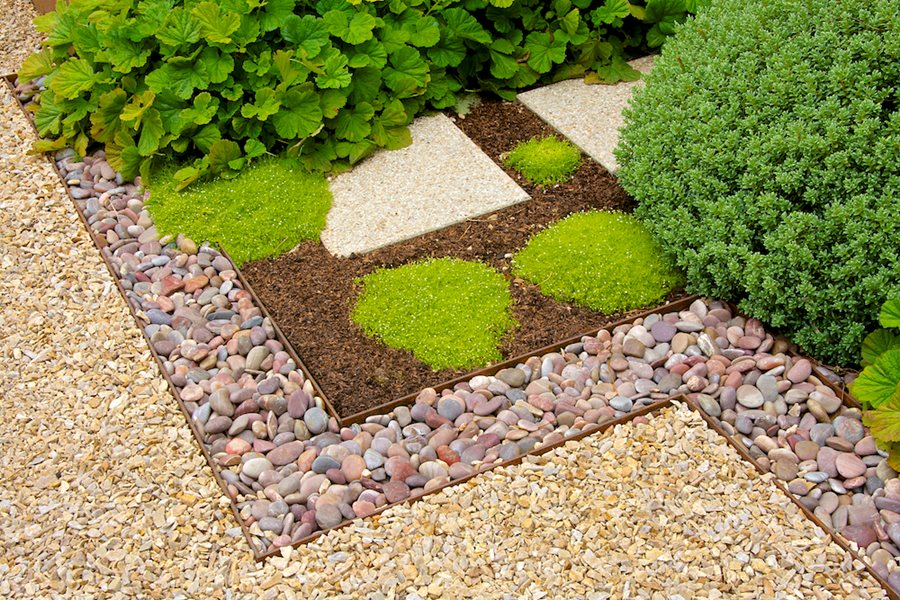rock: (335, 304, 895, 596), (1, 149, 332, 599)
